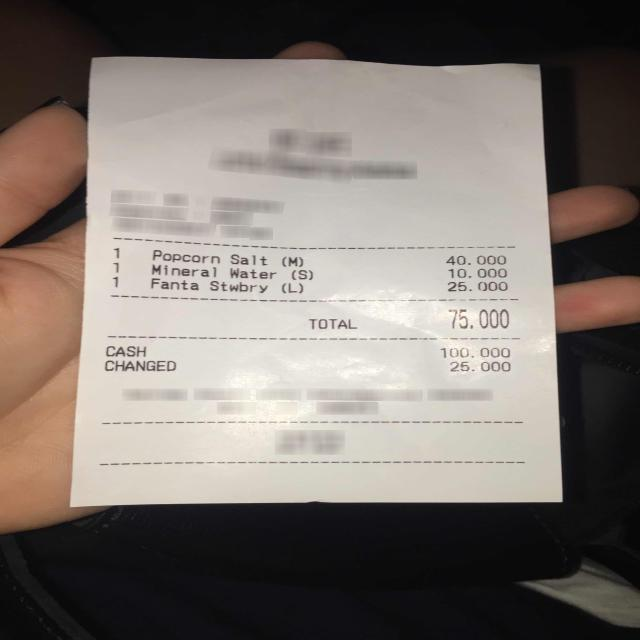kertas: (71, 57, 562, 506)
